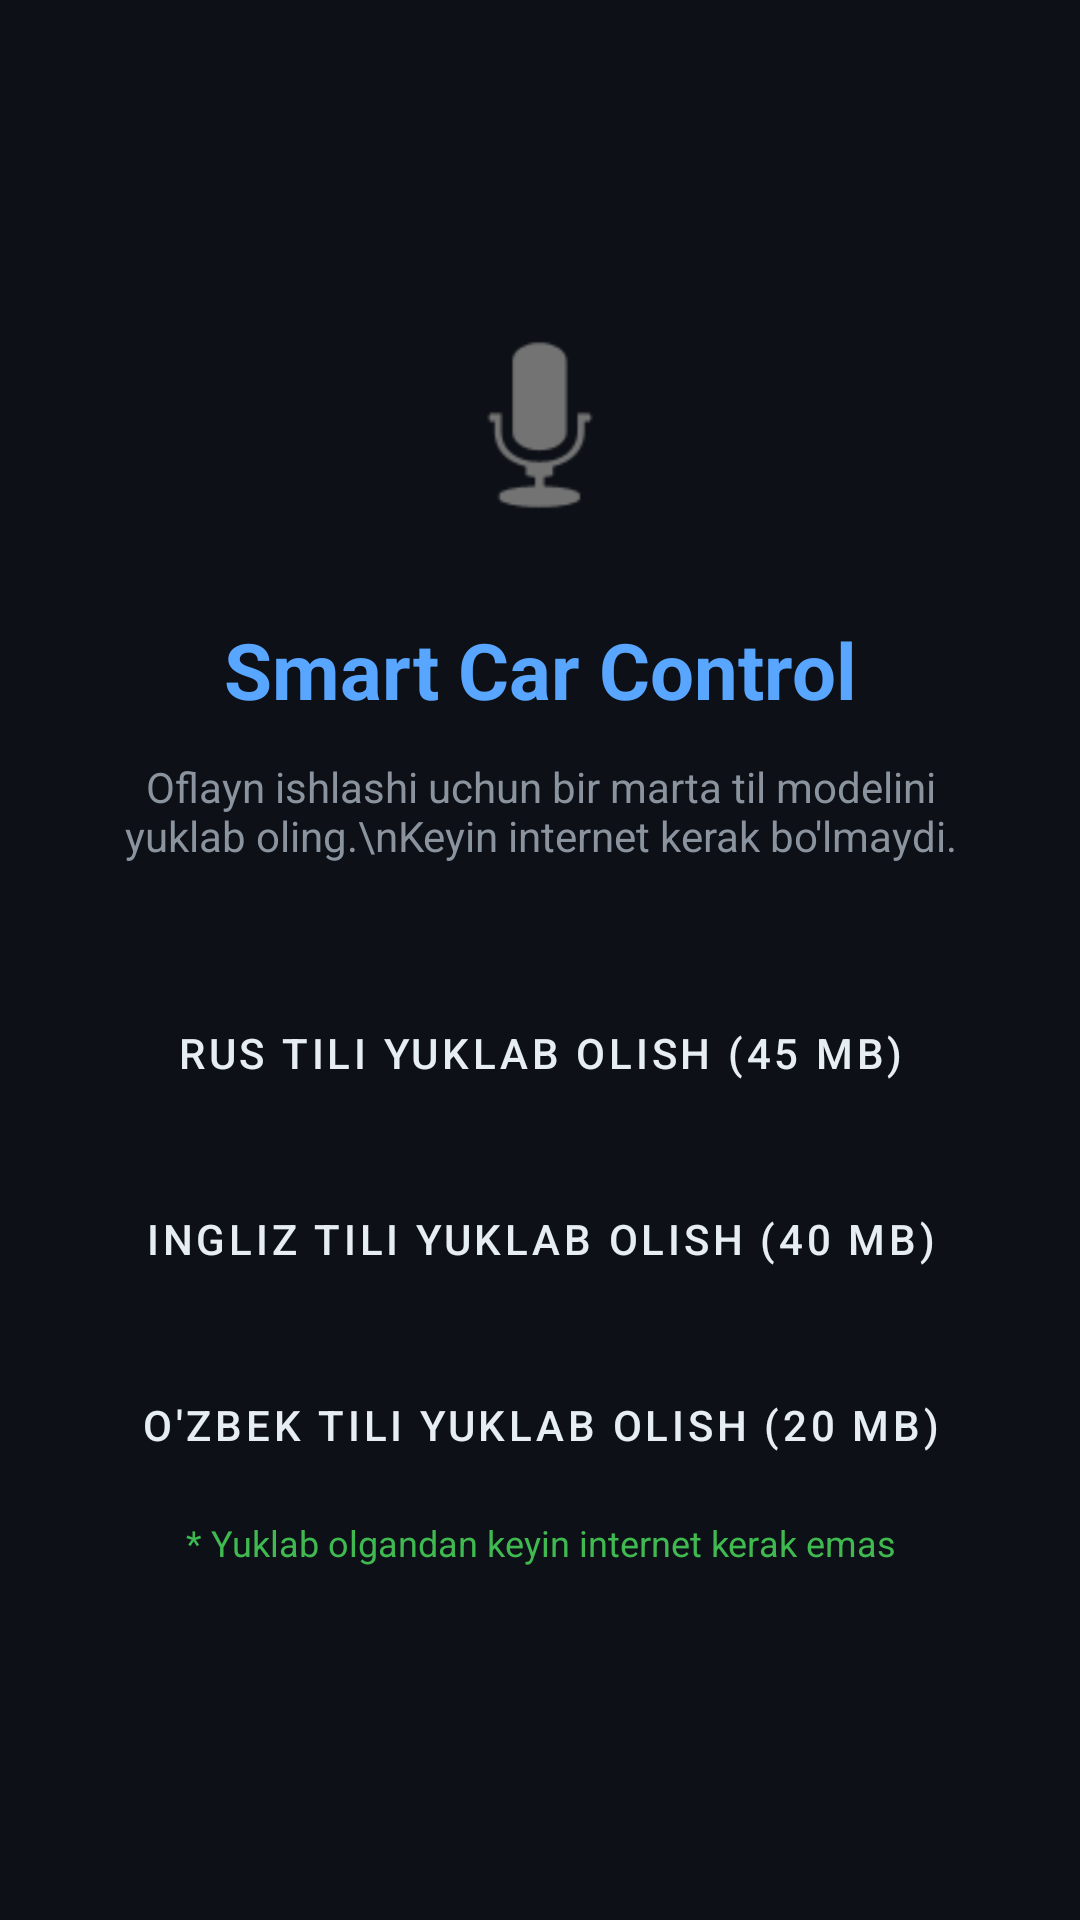

Icon click points for this 1080 × 1920 phone screenshot, format point (x, y):
speak now: point (540, 425)
